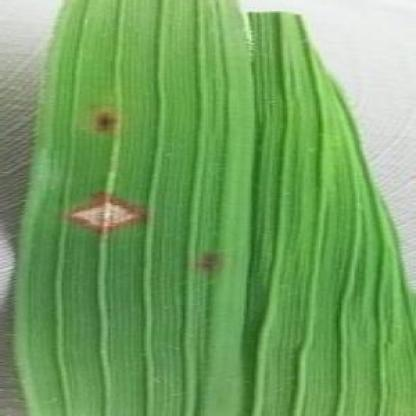Rice blast: (65, 192, 144, 248)
